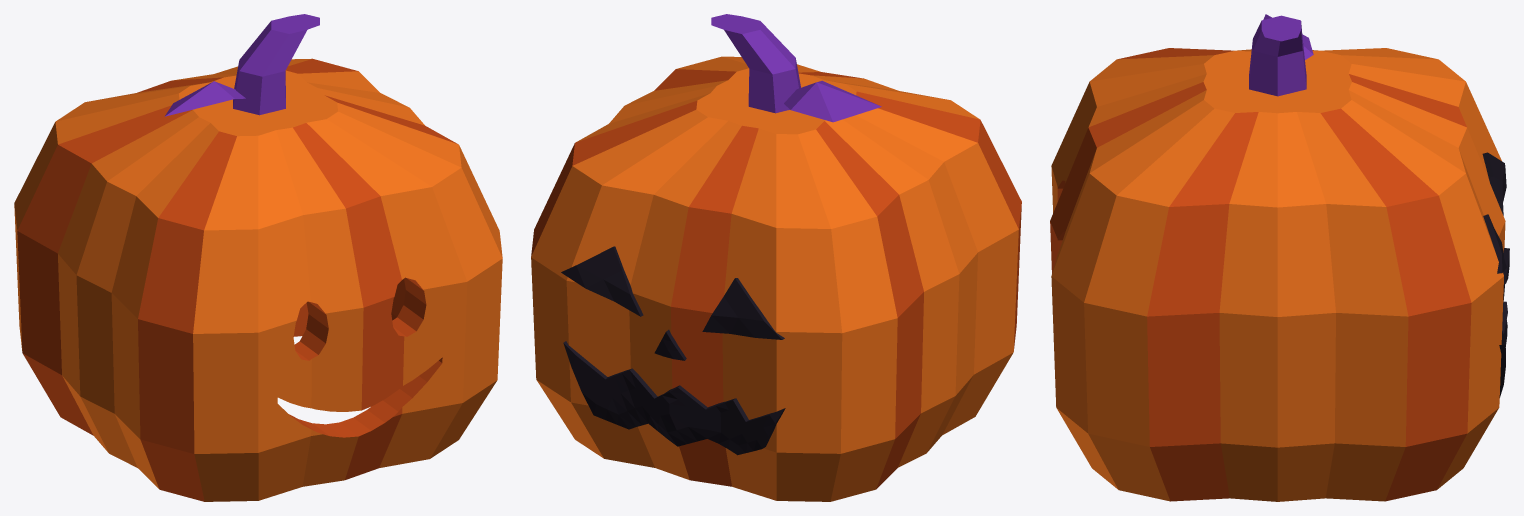
File: HalloweenPumpkin_no-rims.fbx
3 renders of one model, left to right at view 1: azimuth 30°, elevation 25°; view 2: azimuth 150°, elevation 25°; view 3: azimuth 270°, elevation 25°, orthographic. The views are drawn at different scales.
Visible parts, largest first — view 1: Handle, PumpkinShade, Purple; view 2: Handle, PumpkinShade, FaceBlack, Purple; view 3: Handle, PumpkinShade, Purple, FaceBlack.
Part boxes in pixels (x1=…): Handle: x1=14, y1=58, x2=502, y2=501; PumpkinShade: x1=17, y1=59, x2=457, y2=501; Purple: x1=164, y1=14, x2=319, y2=116; Handle: x1=531, y1=56, x2=1018, y2=501; PumpkinShade: x1=531, y1=69, x2=1021, y2=489; FaceBlack: x1=561, y1=246, x2=785, y2=455; Purple: x1=711, y1=14, x2=881, y2=122; Handle: x1=1051, y1=48, x2=1505, y2=501; PumpkinShade: x1=1050, y1=48, x2=1471, y2=501; Purple: x1=1249, y1=14, x2=1313, y2=96; FaceBlack: x1=1482, y1=152, x2=1509, y2=397.
Size of the model in its own units: 1.9 by 1.91 by 1.92.
